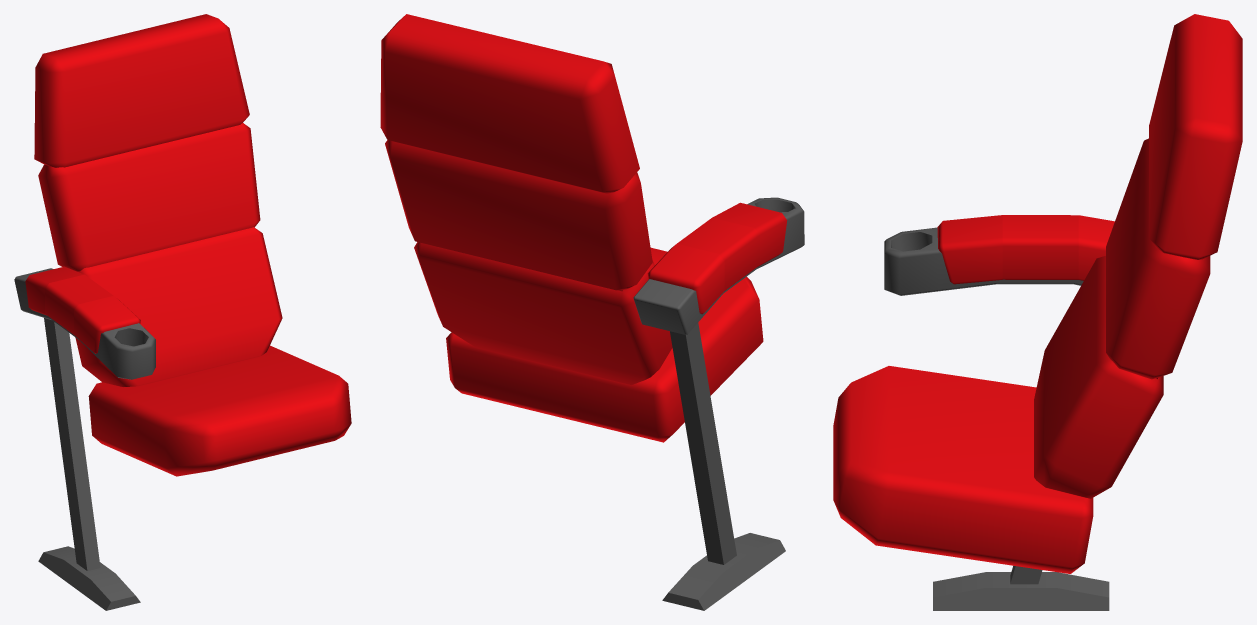
Rendered from seat_theatre2.fbx.
The picture shows the model from 3 angles, left to right: view 1: azimuth 30°, elevation 25°; view 2: azimuth 150°, elevation 25°; view 3: azimuth 270°, elevation 25°; orthographic projection. The views are drawn at different scales.
Parts seen in each view (by area): view 1: shop_center_1_2794; view 2: shop_center_1_2794; view 3: shop_center_1_2794.
Boxes of the visible parts, x1,y1,x2,y2 form: shop_center_1_2794: [14, 14, 351, 610]; shop_center_1_2794: [380, 14, 804, 610]; shop_center_1_2794: [833, 14, 1242, 610].
Bounding box in the file's own units: 1.26 × 2.37 × 1.45.
